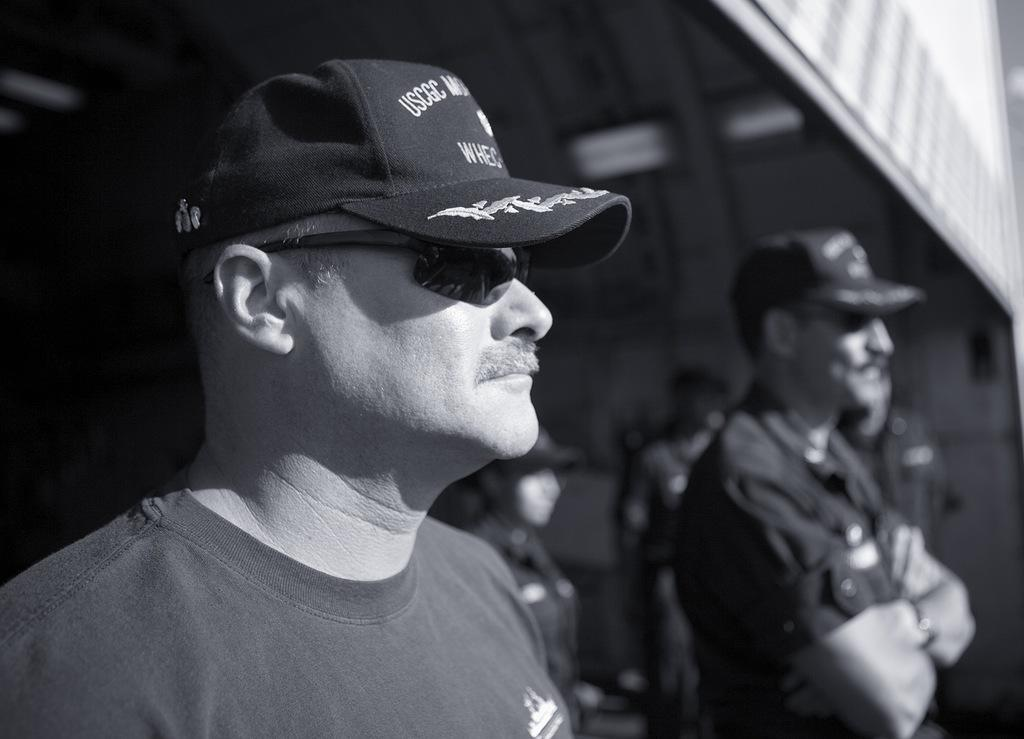Hat: (172, 58, 632, 272), (724, 230, 924, 309)
